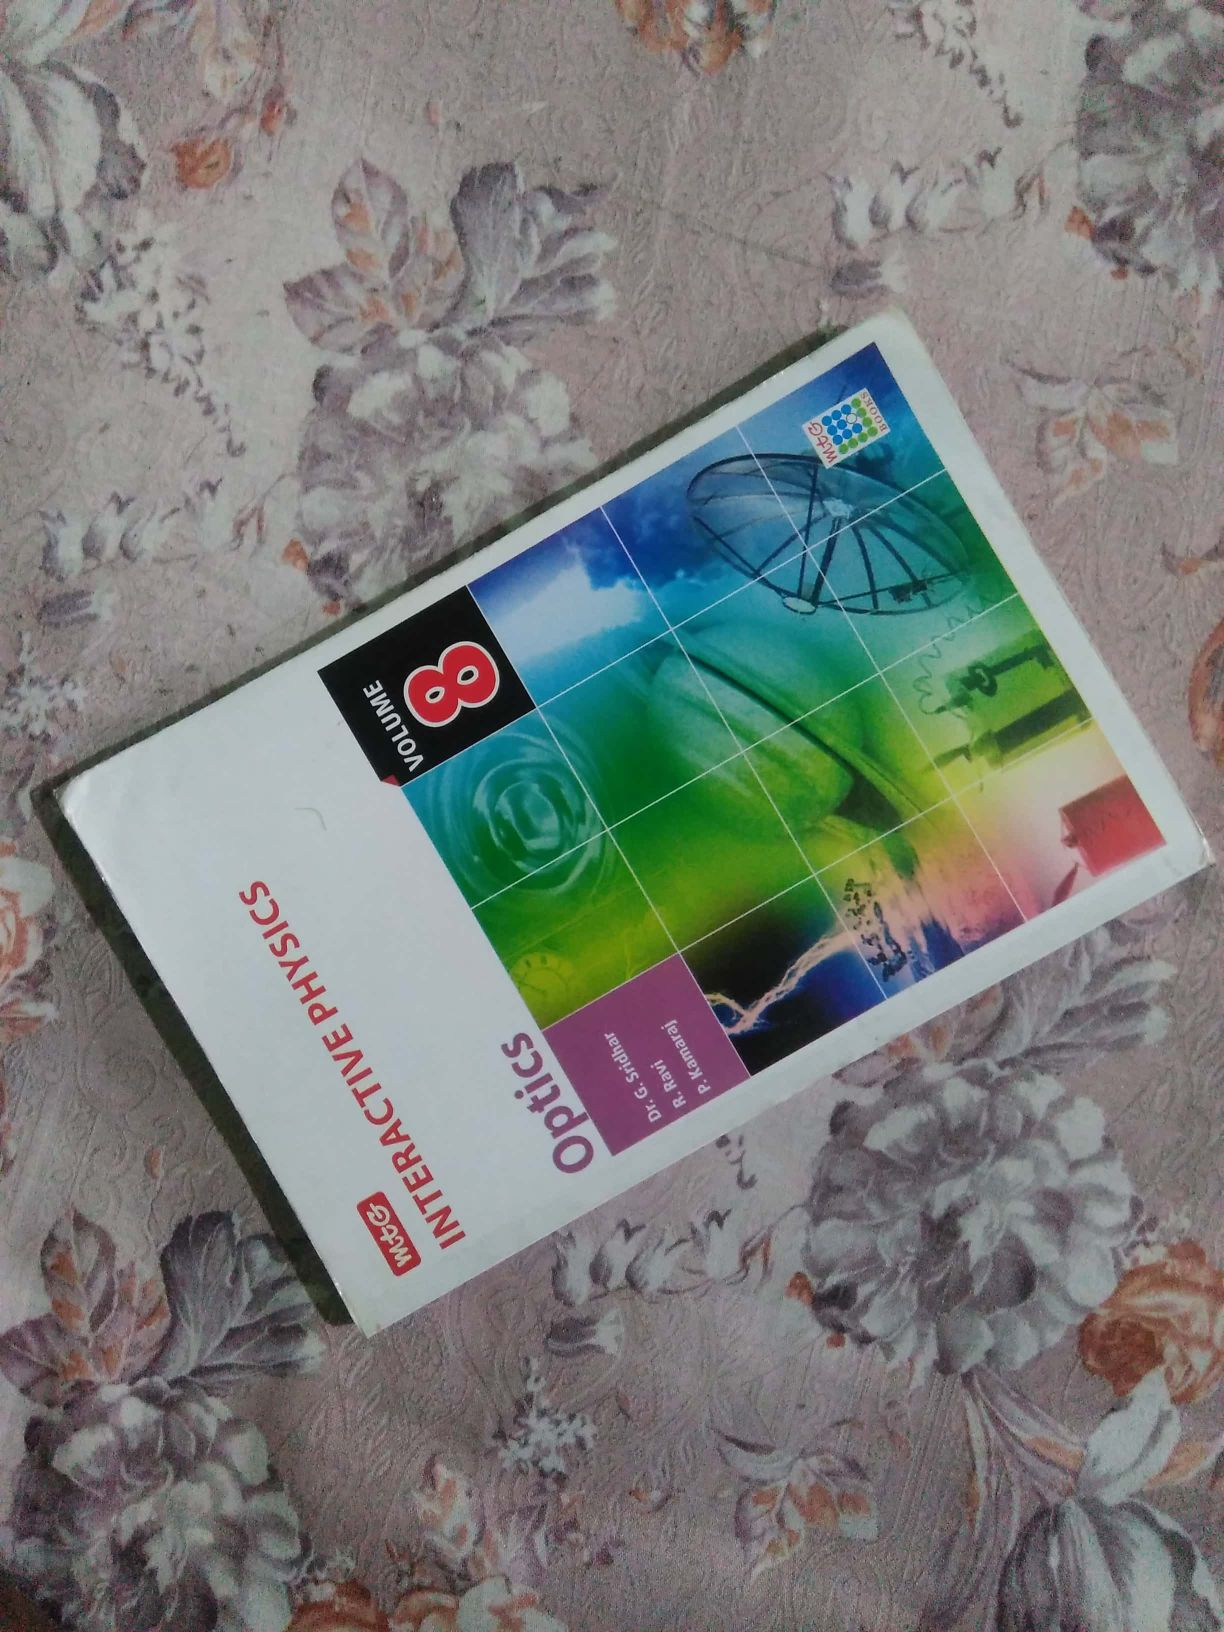optics: (93, 356, 1166, 1326)
